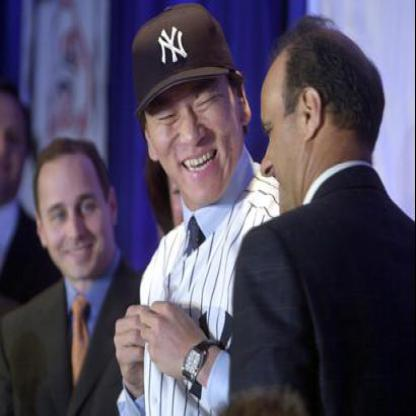face: (143, 11, 238, 208), (40, 148, 111, 283)
